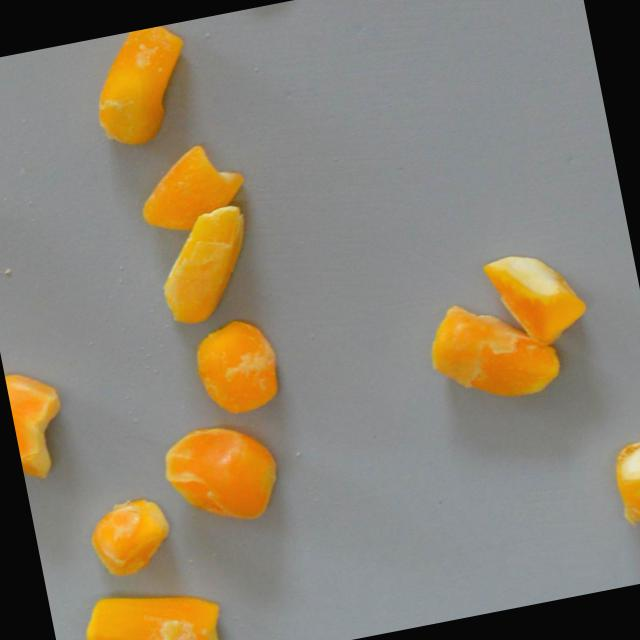dañado: (411, 284, 571, 416), (77, 21, 205, 155), (152, 414, 290, 538), (145, 199, 266, 331), (120, 134, 257, 243), (479, 242, 593, 354), (186, 312, 288, 424), (74, 574, 231, 640), (80, 488, 182, 585), (603, 436, 640, 538)
no_canjicado: (4, 363, 78, 485)
